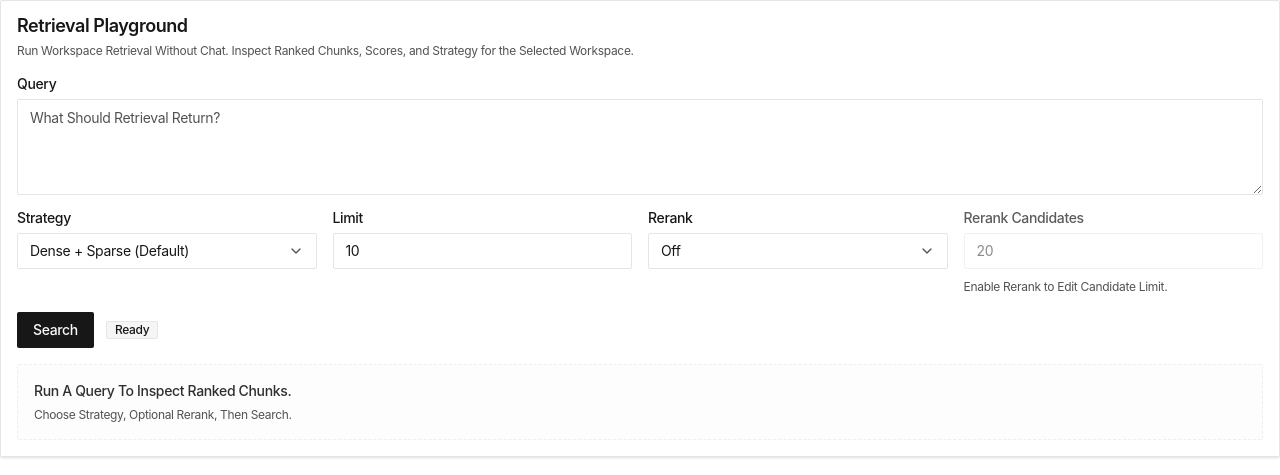
Test: RetrievalPlaygroundPanel › surfaces API errors
Type "graph query" into the text box labelled "Query" at (640, 146), box left=17, top=98, right=1263, bottom=194
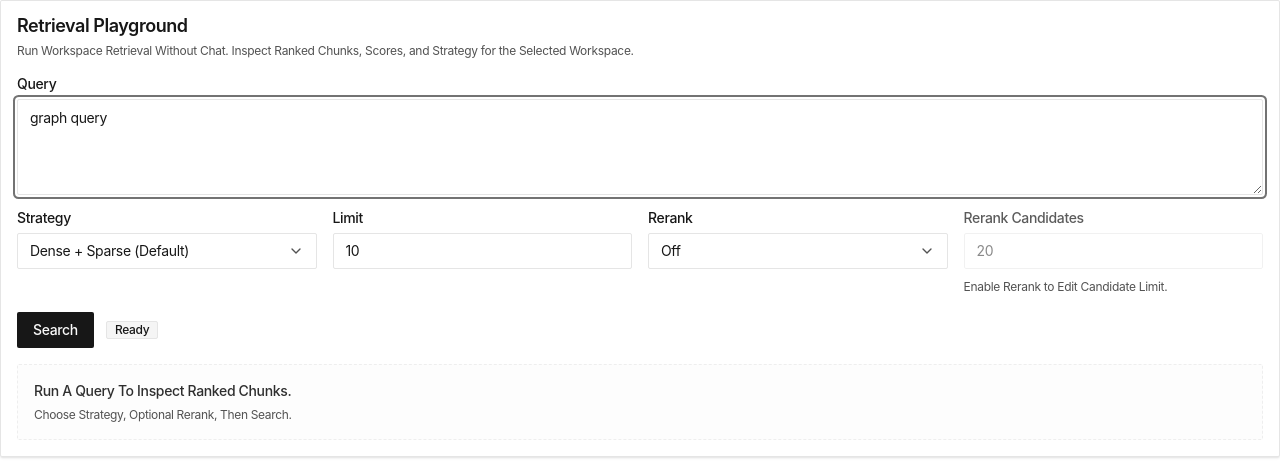
Click the button "Search" at (55, 330), box left=17, top=312, right=94, bottom=348
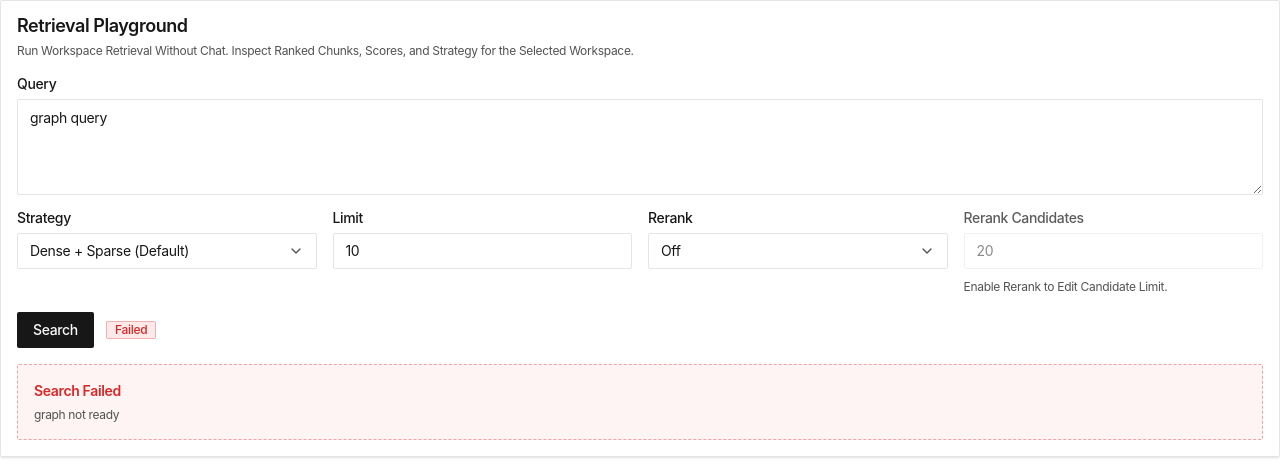
Expected: the text "graph not ready" is shown, left=34, top=407, right=119, bottom=422
